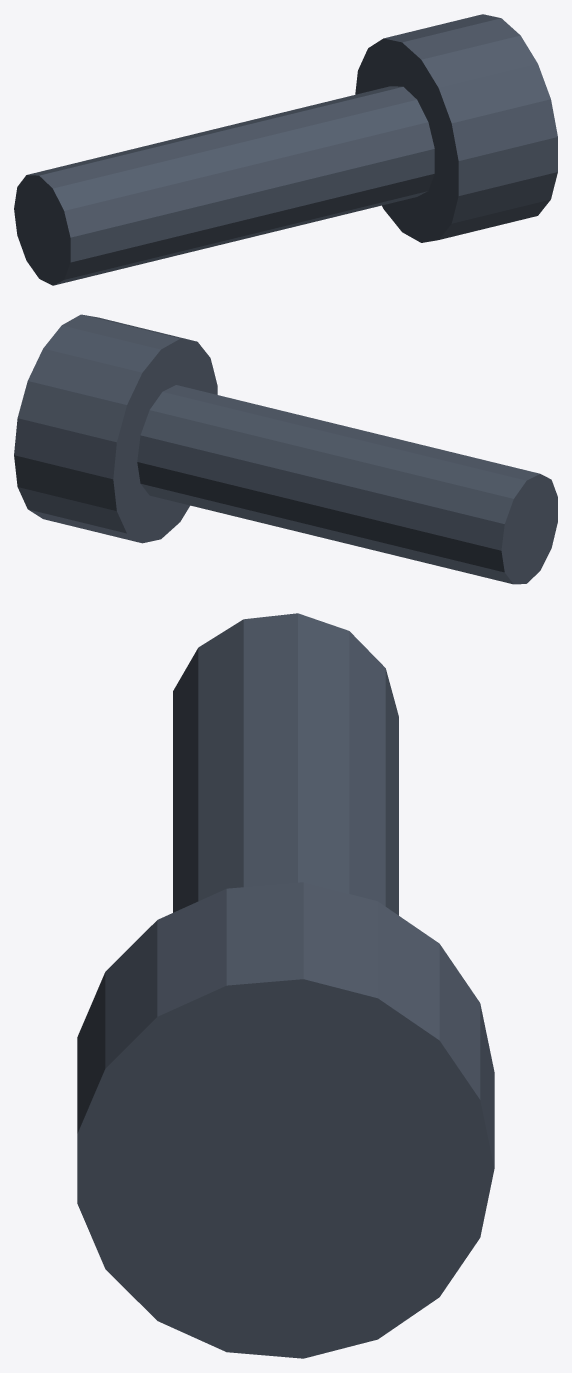
The picture shows the model from 3 angles, top to bottom: view 1: azimuth 30°, elevation 25°; view 2: azimuth 150°, elevation 25°; view 3: azimuth 270°, elevation 25°; orthographic projection. The views are drawn at different scales.
Visible parts, largest first — view 1: part_036; view 2: part_036; view 3: part_036.
Boxes of the visible parts, x1,y1,x2,y2 form: part_036: [14, 14, 557, 285]; part_036: [14, 314, 557, 584]; part_036: [77, 613, 494, 1358].
Bounding box in the file's own units: 0.014 × 0.00545 × 0.00548.
